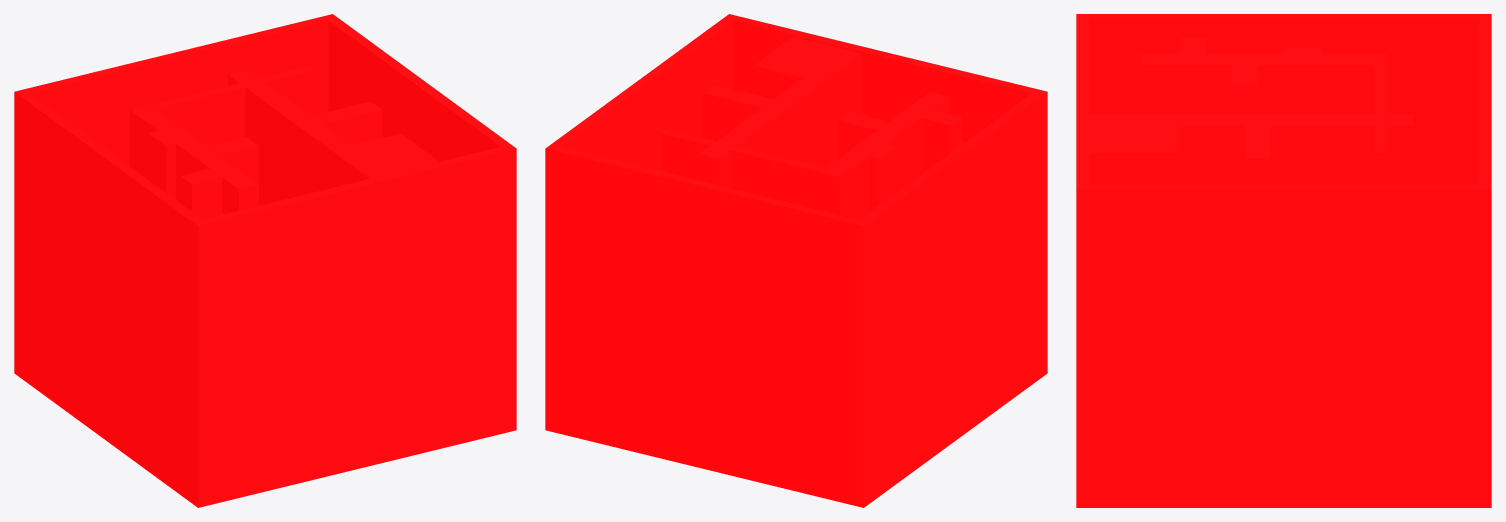
Rendered from level1.gltf.
3 renders of one model, left to right at view 1: azimuth 30°, elevation 25°; view 2: azimuth 150°, elevation 25°; view 3: azimuth 270°, elevation 25°, orthographic. The views are drawn at different scales.
Parts seen in each view (by area): view 1: Cube; view 2: Cube; view 3: Cube.
Boxes of the visible parts, left/top/right/bottom form: Cube: left=14, top=14, right=516, bottom=507; Cube: left=545, top=14, right=1047, bottom=507; Cube: left=1076, top=14, right=1491, bottom=507.
Size of the model in its own units: 20 by 16.91 by 20.
